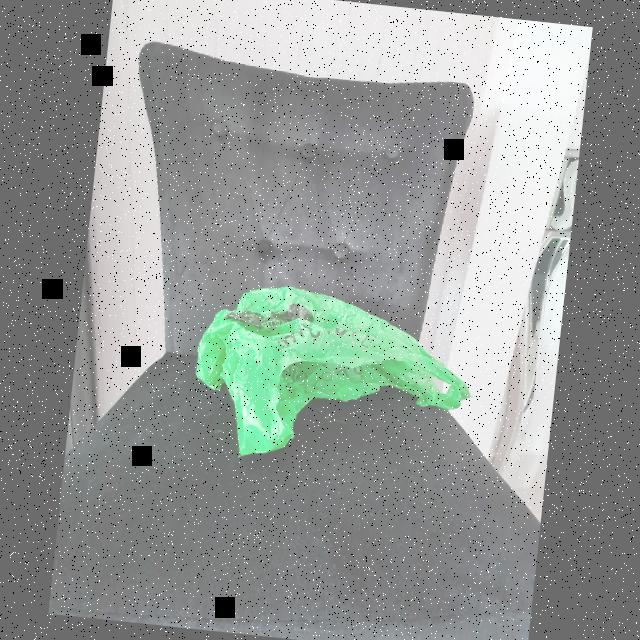plastic_bag: (187, 274, 478, 468)
